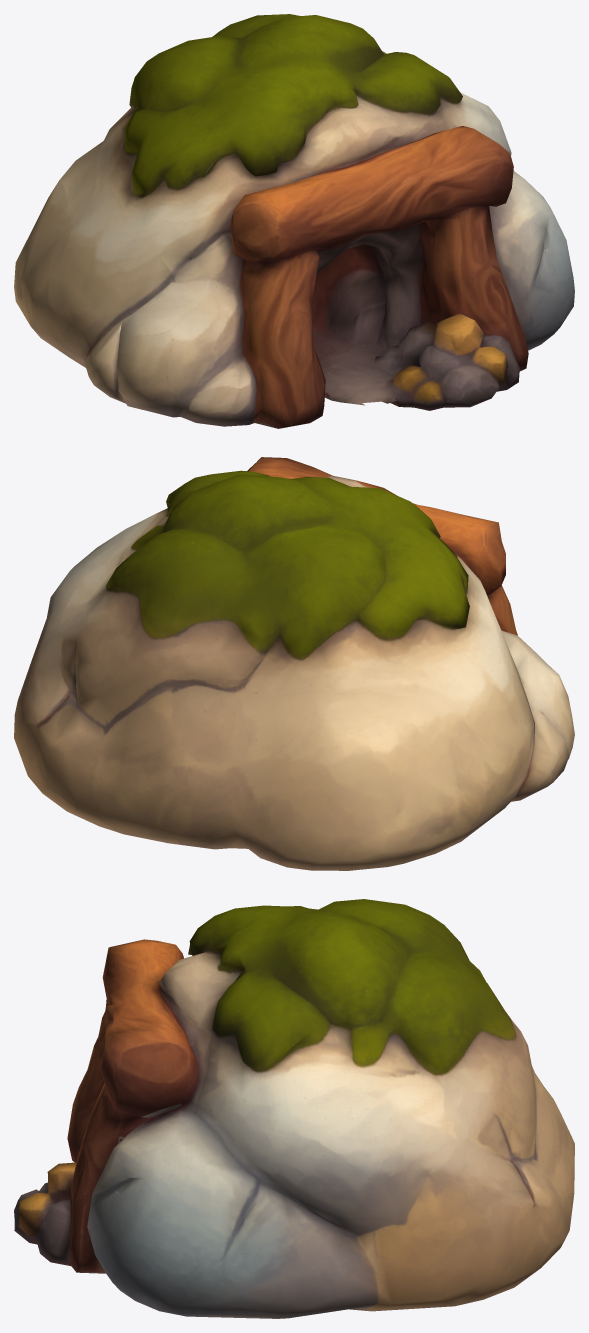
Rendered from gold_mine.glb.
3 renders of one model, top to bottom at view 1: azimuth 30°, elevation 25°; view 2: azimuth 150°, elevation 25°; view 3: azimuth 270°, elevation 25°, orthographic. The views are drawn at different scales.
Visible parts, largest first — view 1: geometry_0.001; view 2: geometry_0.001; view 3: geometry_0.001.
Part boxes in pixels (x1,y1,x2,y2): geometry_0.001: (14,14,574,428); geometry_0.001: (14,457,574,870); geometry_0.001: (14,899,574,1318).
Size of the model in its own units: 1.99 by 1.16 by 2.
Materials: 1 (1 with a texture image).
